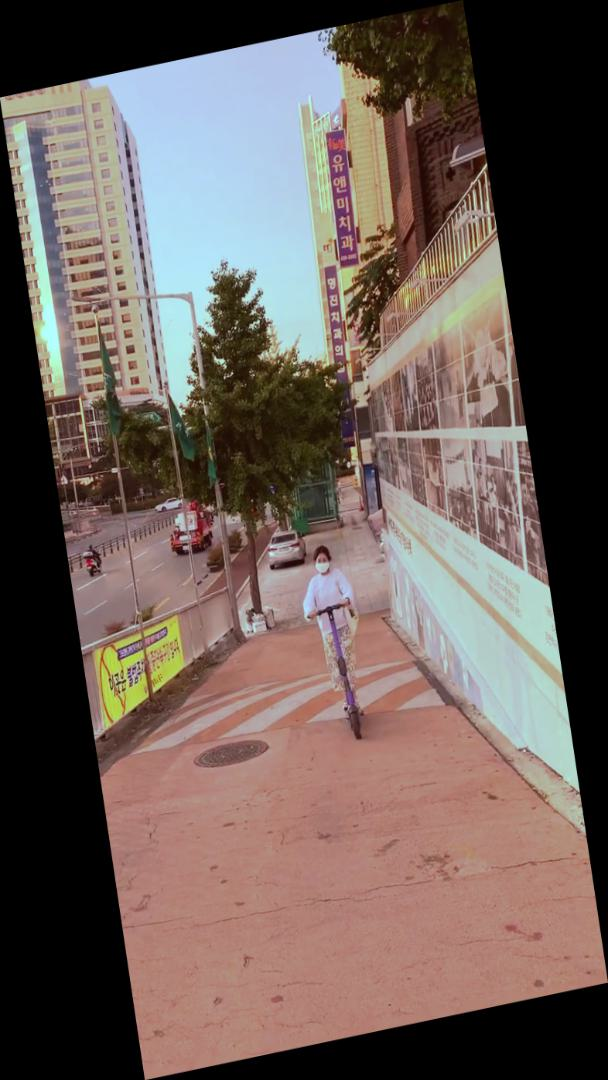nonhelmet: (290, 536, 382, 750)
